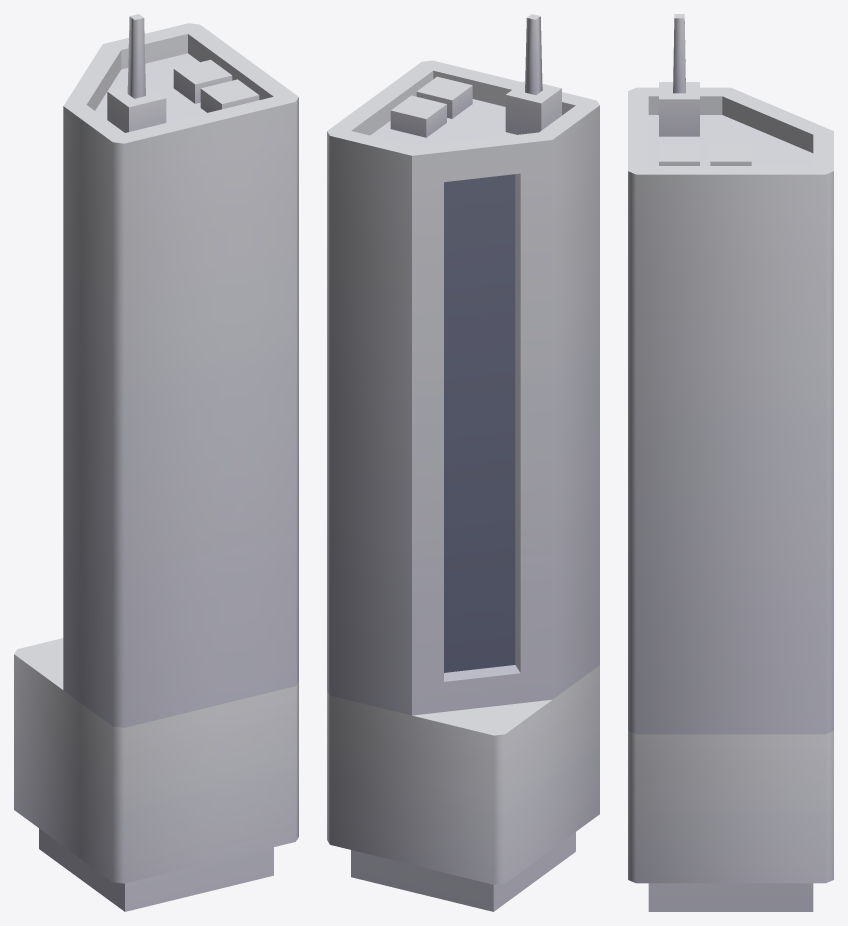
Rendered from low-detail-building-c.glb.
3 renders of one model, left to right at view 1: azimuth 30°, elevation 25°; view 2: azimuth 150°, elevation 25°; view 3: azimuth 270°, elevation 25°, orthographic. The views are drawn at different scales.
Parts seen in each view (by area): view 1: low-detail-building-c; view 2: low-detail-building-c; view 3: low-detail-building-c.
Part boxes in pixels (left/top/right/bottom): low-detail-building-c: left=14, top=14, right=298, bottom=911; low-detail-building-c: left=327, top=14, right=599, bottom=911; low-detail-building-c: left=628, top=14, right=833, bottom=911.
Size of the model in its own units: 0.4999 by 2.25 by 0.4999.
Materials: 1 (1 with a texture image).
